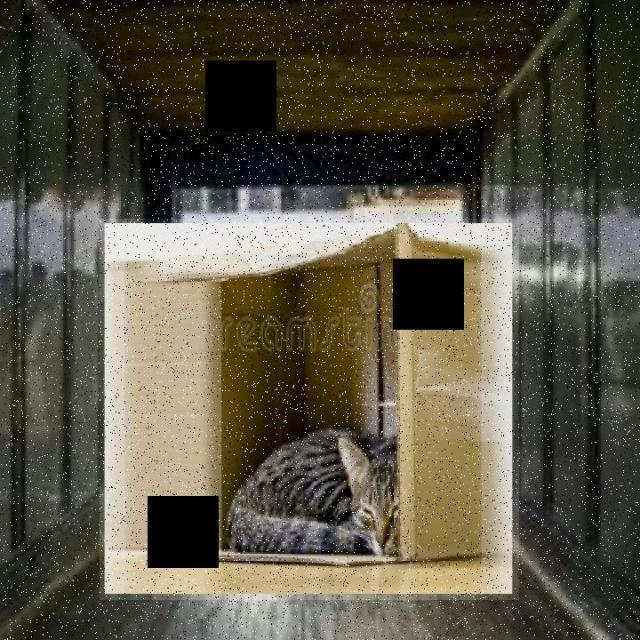box: (100, 218, 520, 600)
